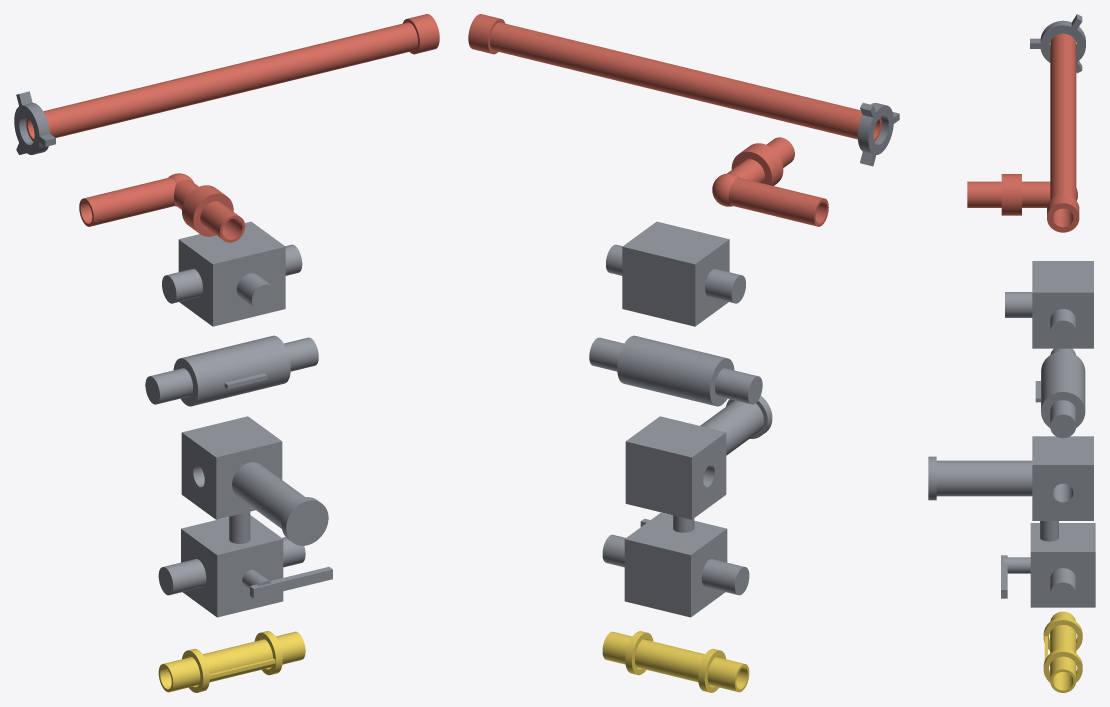
Rendered from WH-FLOWIRON.glb.
3 views of the same model, side by side, from view 1: azimuth 30°, elevation 25°; view 2: azimuth 150°, elevation 25°; view 3: azimuth 270°, elevation 25° (orthographic). The views are drawn at different scales.
Parts seen in each view (by area): view 1: WH-FLOWIRON-PUPJOINT, WH-FLOWIRON-PRV, WH-FLOWIRON-PLUGVALVE, WH-FLOWIRON-TEE, WH-FLOWIRON-CHECKVALVE, WH-FLOWIRON-SWIVEL, WH-FLOWIRON-RESTRAINT, WH-FLOWIRON-HAMMERUNION; view 2: WH-FLOWIRON-PUPJOINT, WH-FLOWIRON-PRV, WH-FLOWIRON-TEE, WH-FLOWIRON-PLUGVALVE, WH-FLOWIRON-CHECKVALVE, WH-FLOWIRON-SWIVEL, WH-FLOWIRON-RESTRAINT, WH-FLOWIRON-HAMMERUNION; view 3: WH-FLOWIRON-PRV, WH-FLOWIRON-TEE, WH-FLOWIRON-PLUGVALVE, WH-FLOWIRON-PUPJOINT, WH-FLOWIRON-CHECKVALVE, WH-FLOWIRON-RESTRAINT, WH-FLOWIRON-SWIVEL, WH-FLOWIRON-HAMMERUNION.
Boxes of the visible parts, box(x1,y1,x2,y2) form: WH-FLOWIRON-PUPJOINT: box(26, 14, 439, 141); WH-FLOWIRON-PRV: box(181, 416, 328, 545); WH-FLOWIRON-PLUGVALVE: box(158, 515, 332, 617); WH-FLOWIRON-TEE: box(162, 221, 302, 326); WH-FLOWIRON-CHECKVALVE: box(145, 335, 318, 406); WH-FLOWIRON-SWIVEL: box(79, 173, 245, 242); WH-FLOWIRON-RESTRAINT: box(158, 631, 305, 692); WH-FLOWIRON-HAMMERUNION: box(14, 91, 55, 154); WH-FLOWIRON-PUPJOINT: box(468, 14, 881, 141); WH-FLOWIRON-PRV: box(625, 396, 772, 532); WH-FLOWIRON-TEE: box(606, 221, 745, 326); WH-FLOWIRON-PLUGVALVE: box(602, 512, 749, 617); WH-FLOWIRON-CHECKVALVE: box(589, 335, 762, 406); WH-FLOWIRON-SWIVEL: box(712, 137, 828, 226); WH-FLOWIRON-RESTRAINT: box(602, 631, 749, 692); WH-FLOWIRON-HAMMERUNION: box(858, 103, 899, 166); WH-FLOWIRON-PRV: box(928, 436, 1093, 541); WH-FLOWIRON-TEE: box(1005, 261, 1093, 348); WH-FLOWIRON-PLUGVALVE: box(1001, 523, 1095, 607); WH-FLOWIRON-PUPJOINT: box(1047, 33, 1079, 232); WH-FLOWIRON-CHECKVALVE: box(1035, 348, 1085, 438); WH-FLOWIRON-RESTRAINT: box(1043, 611, 1082, 692); WH-FLOWIRON-SWIVEL: box(967, 174, 1077, 215); WH-FLOWIRON-HAMMERUNION: box(1030, 14, 1085, 73).
Size of the model in its own units: 1.55 by 2.32 by 0.621.
